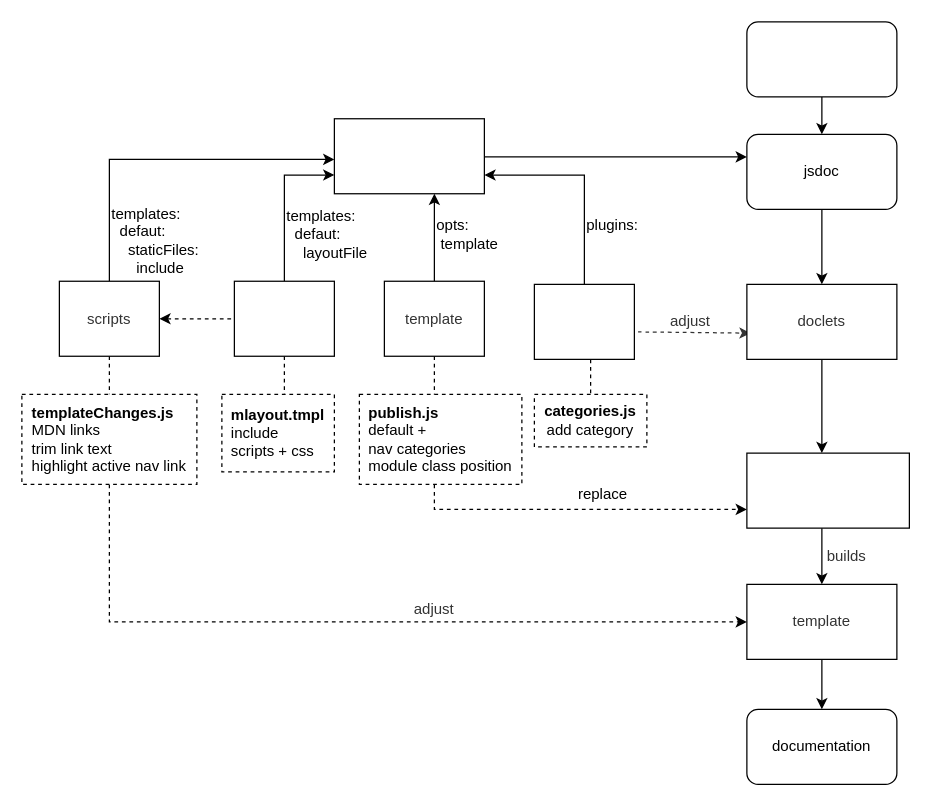
The diagram is 931 pixels wide and 806 high, and some of its shapes have lost their labels. Each missing label, with the box of its shape:
config.json: (333, 118, 484, 194)
layout.tmpl: (233, 280, 334, 356)
plugins: (533, 283, 634, 359)
publish.js: (746, 452, 909, 528)
source code: (746, 21, 897, 97)
